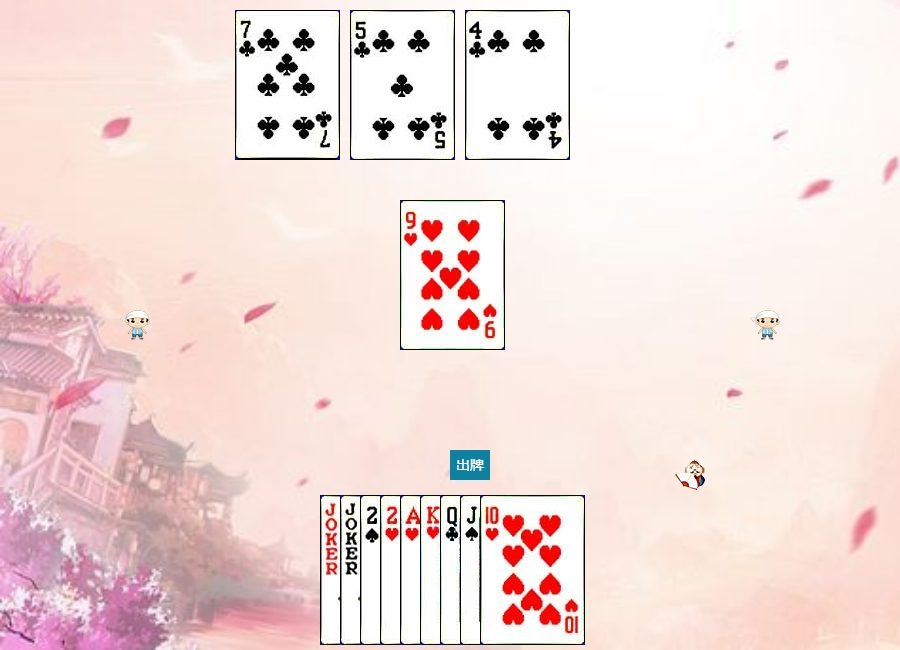10~3: (480, 495, 585, 645)
11~4: (460, 495, 565, 645)
12~2: (440, 495, 545, 645)
13~3: (420, 495, 525, 645)
14~3: (400, 495, 505, 645)
15~3: (380, 495, 485, 645)
15~4: (360, 495, 465, 645)
17~3: (340, 495, 445, 645)
18~4: (320, 495, 425, 645)
4~2: (465, 10, 570, 160)
5~2: (350, 10, 455, 160)
7~2: (235, 10, 340, 160)
9~3: (400, 200, 505, 350)
